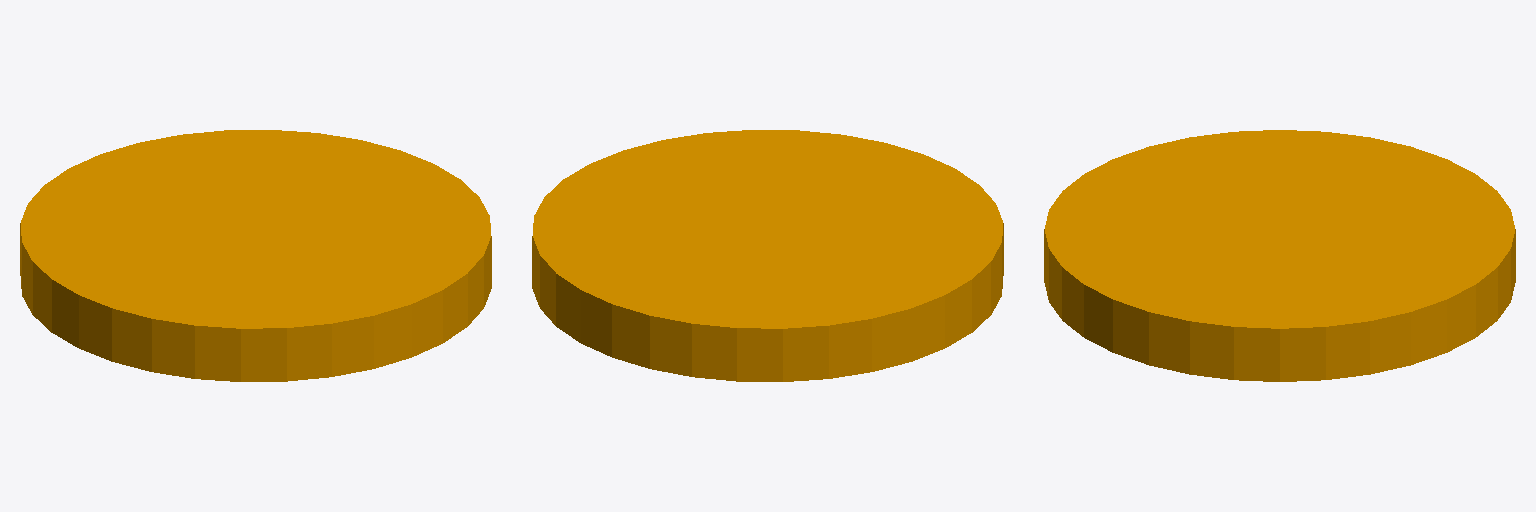
robot.urdf — 3v2_test_hand_cylinder_large:
<?xml version="1.0" ?>
<robot name="3v2_test_hand_cylinder_large">

    <link name="3v2_test_hand_cylinder_large">
        <visual>
            <origin rpy="1.5707963267948966 0 0" xyz="0 0 0"/>
            <geometry>
                <mesh filename="obj_files/3v2_test_hand_cylinder_large.obj" scale="1 1 1"/>
            </geometry>
        </visual>
        <collision>
            <geometry>
                <mesh filename="obj_files/3v2_test_hand_cylinder_large_collision.obj" scale="1 1 1"/>
            </geometry>
        </collision>
    </link>

</robot>

--- Render facts (derived) ---
Views: 3 orthographic renders of the robot side by side, from view 1: azimuth 30°, elevation 25°; view 2: azimuth 150°, elevation 25°; view 3: azimuth 270°, elevation 25°.
Robot: 3v2_test_hand_cylinder_large — 1 links, 0 joints (none); root link 3v2_test_hand_cylinder_large; default pose: all joints at 0.
Visible links, largest first — view 1: 3v2_test_hand_cylinder_large; view 2: 3v2_test_hand_cylinder_large; view 3: 3v2_test_hand_cylinder_large.
Boxes of the visible links, x1,y1,x2,y2 form: 3v2_test_hand_cylinder_large: (20,130,491,381); 3v2_test_hand_cylinder_large: (532,130,1003,381); 3v2_test_hand_cylinder_large: (1044,130,1515,381).
Bounding box of the posed robot: 0.4801 × 0.4801 × 0.06 m (x, y, z).
1 mesh visuals loaded from 1 distinct referenced files (1 OBJ).